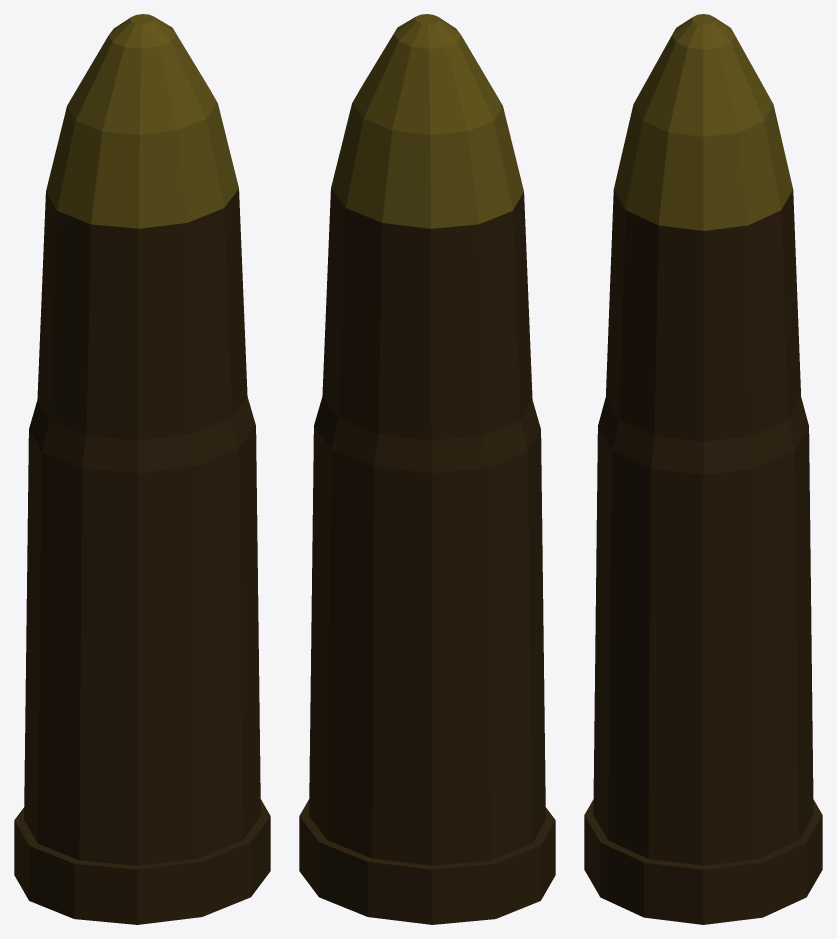
Rendered from ammo_pickup.obj.
3 views of the same model, side by side, from view 1: azimuth 30°, elevation 25°; view 2: azimuth 150°, elevation 25°; view 3: azimuth 270°, elevation 25° (orthographic).
Parts seen in each view (by area): view 1: bullet; view 2: bullet; view 3: bullet.
Part boxes in pixels (bbox=[...]): bullet: bbox=[14, 14, 270, 924]; bullet: bbox=[299, 14, 555, 924]; bullet: bbox=[584, 14, 822, 924].
Size of the model in its own units: 0.2083 by 0.75 by 0.1903.
